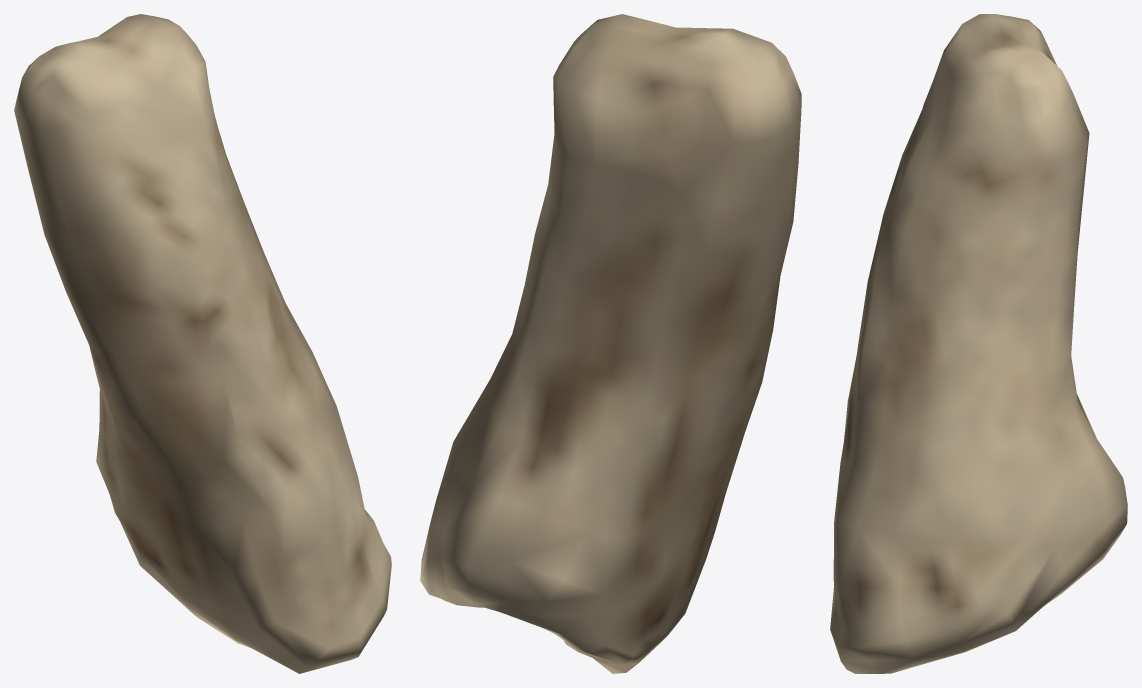
File: Upper_Incisor.glb
3 views of the same model, side by side, from view 1: azimuth 30°, elevation 25°; view 2: azimuth 150°, elevation 25°; view 3: azimuth 270°, elevation 25° (orthographic). The views are drawn at different scales.
Visible parts, largest first — view 1: Group6019_Mesh.040; view 2: Group6019_Mesh.040; view 3: Group6019_Mesh.040.
Boxes of the visible parts, <box> form: Group6019_Mesh.040: <box>14,14,391,673</box>; Group6019_Mesh.040: <box>420,14,801,673</box>; Group6019_Mesh.040: <box>830,14,1127,673</box>.
Bounding box in the file's own units: 0.0179 × 0.0324 × 0.0152.
Materials: 1 (1 with a texture image).
